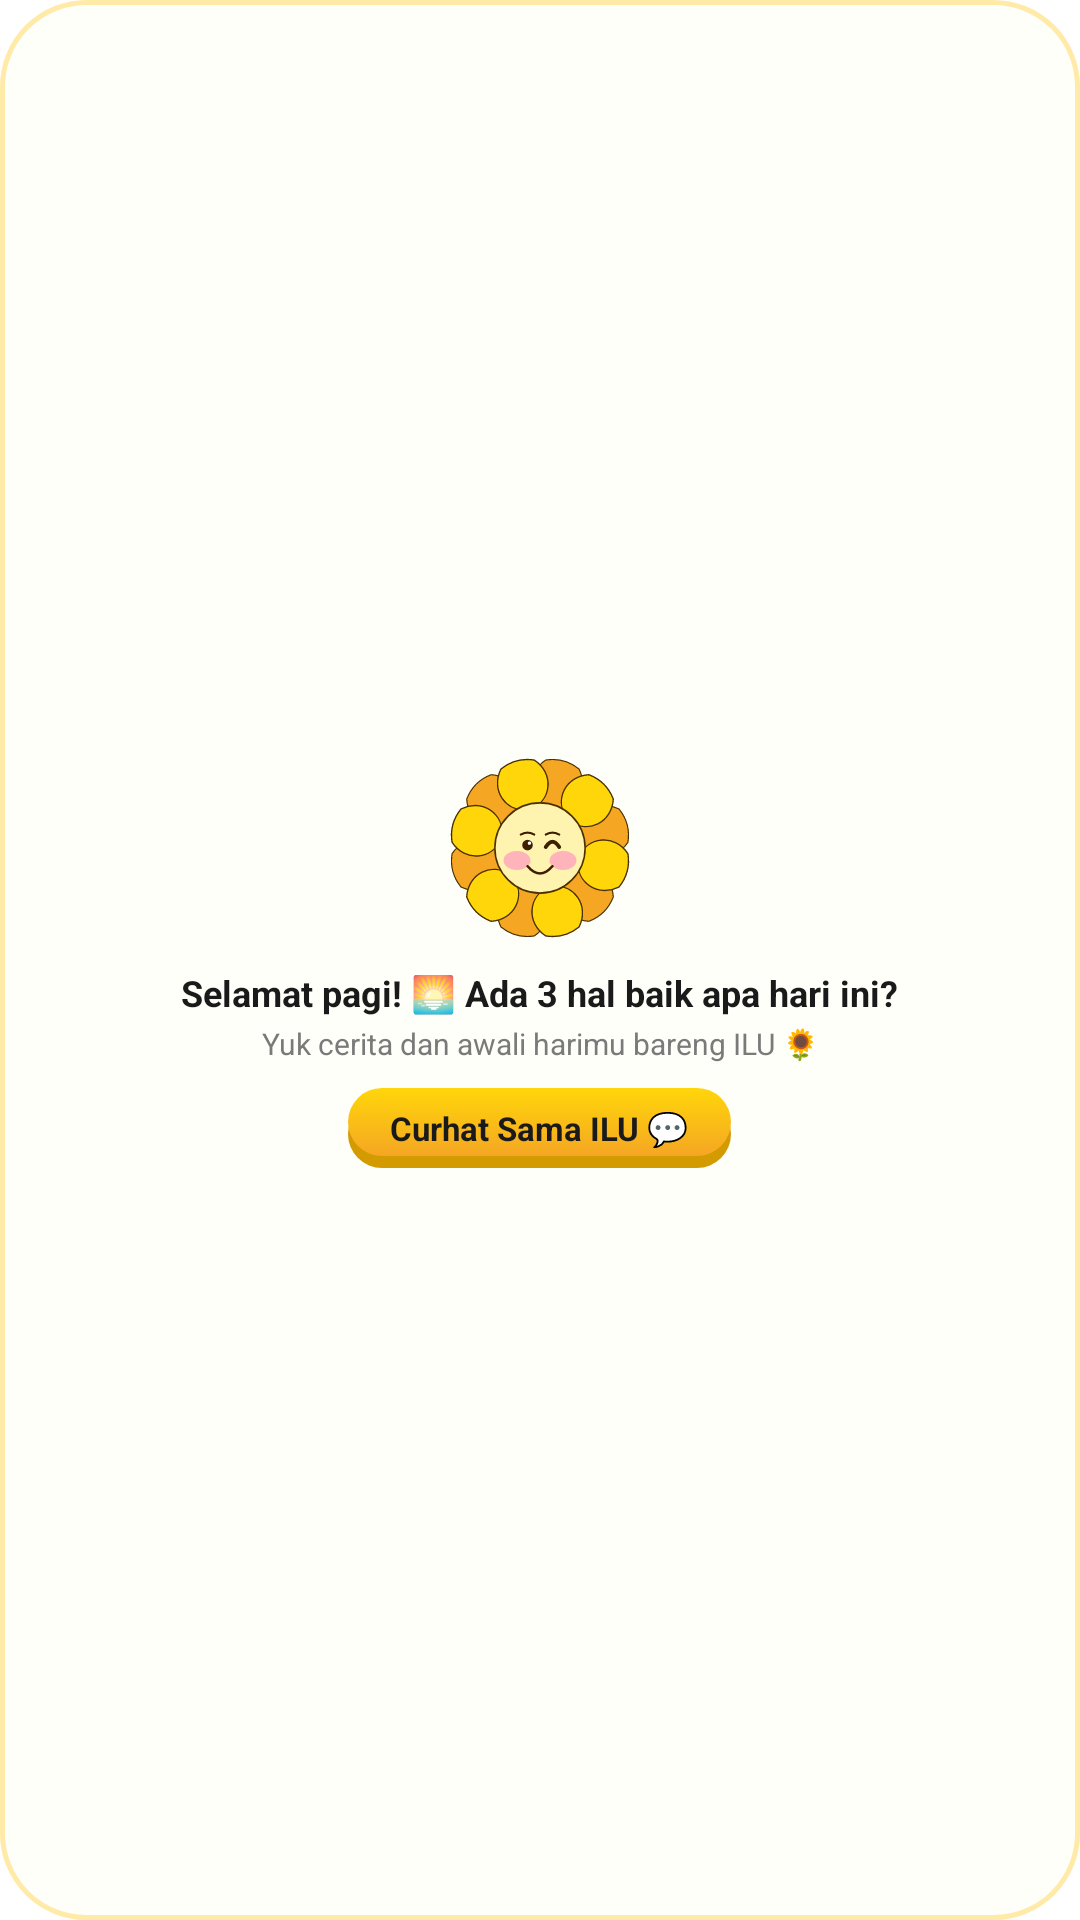

Where to tap for icons on this 1080w x 1920h app screen, as (x=x, y=y):
ILU Mascot: (x=540, y=848)
